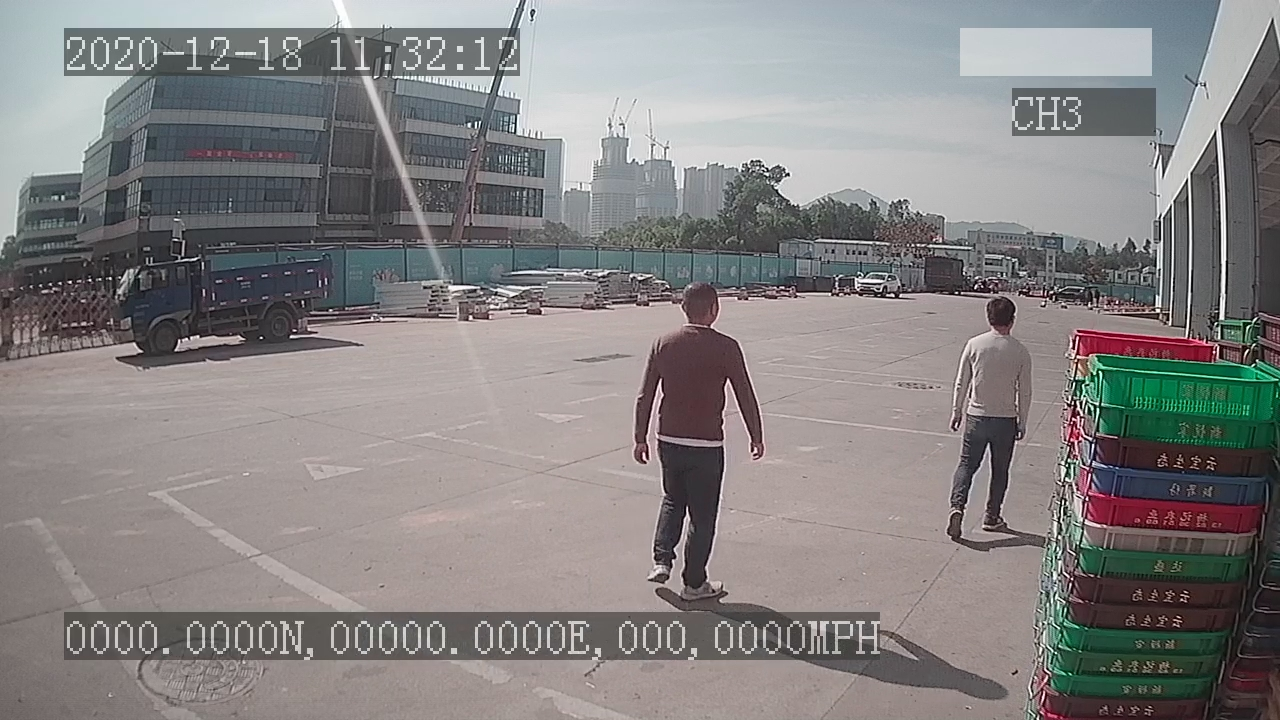person: (630, 279, 765, 601), (942, 295, 1033, 545)
